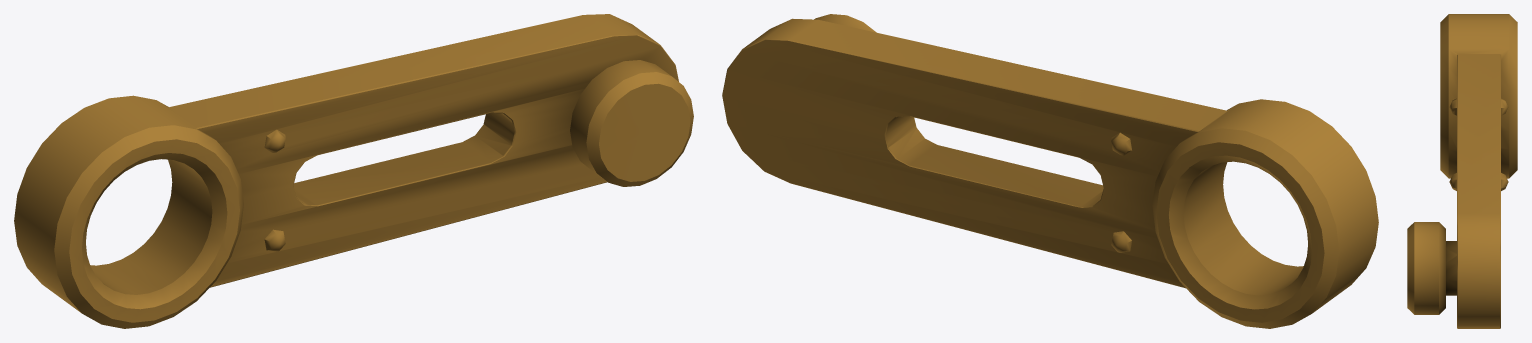
File: crank_standard.glb
3 renders of one model, left to right at view 1: azimuth 30°, elevation 25°; view 2: azimuth 150°, elevation 25°; view 3: azimuth 270°, elevation 25°, orthographic. The views are drawn at different scales.
Parts seen in each view (by area): view 1: Crank_Standard; view 2: Crank_Standard; view 3: Crank_Standard.
Part boxes in pixels (box(x1,y1,x2,y2)): Crank_Standard: box(14, 14, 693, 328); Crank_Standard: box(722, 14, 1378, 328); Crank_Standard: box(1407, 14, 1517, 328).
Size of the model in its own units: 0.04 by 0.012 by 0.008.
